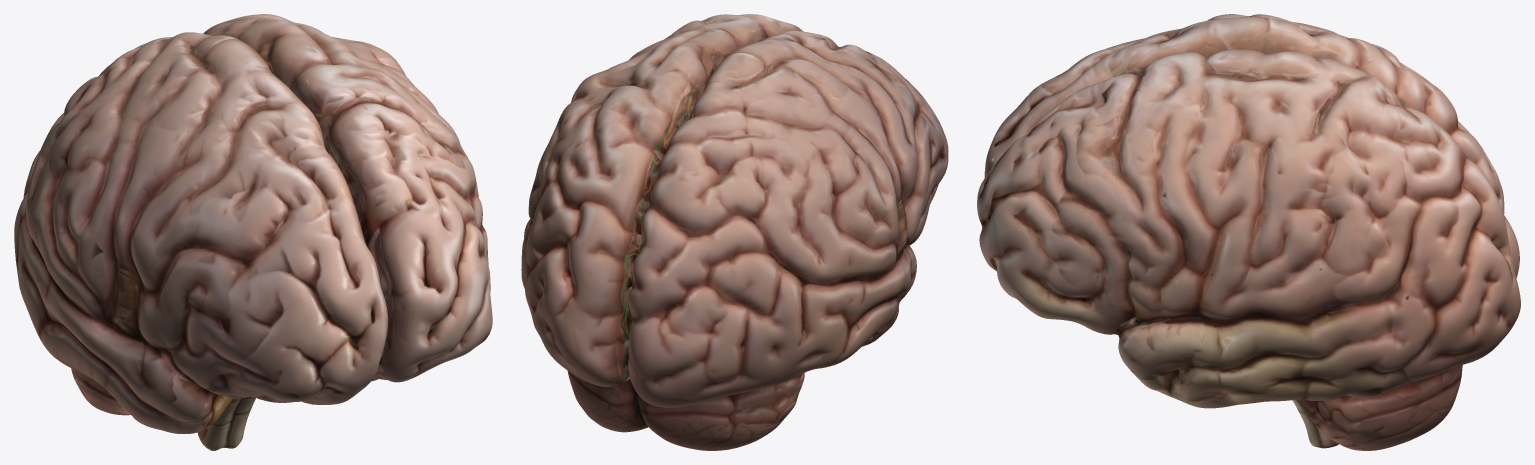
File: source-opt.glb
The picture shows the model from 3 angles, left to right: view 1: azimuth 30°, elevation 25°; view 2: azimuth 150°, elevation 25°; view 3: azimuth 270°, elevation 25°; orthographic projection. The views are drawn at different scales.
Parts seen in each view (by area): view 1: Mesh_0_Material_0.001_0; view 2: Mesh_0_Material_0.001_0; view 3: Mesh_0_Material_0.001_0.
Boxes of the visible parts, x1=… form: Mesh_0_Material_0.001_0: x1=14, y1=14, x2=492, y2=450; Mesh_0_Material_0.001_0: x1=521, y1=14, x2=948, y2=450; Mesh_0_Material_0.001_0: x1=977, y1=14, x2=1520, y2=450.
Size of the model in its own units: 1.51 by 1.67 by 2.
1 material, 1 textured.
